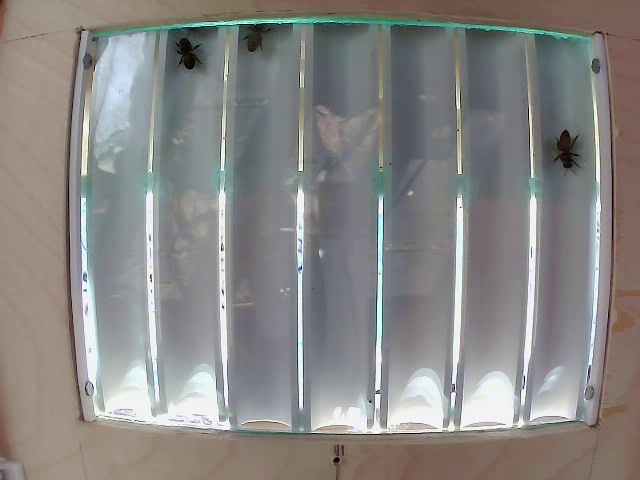bee: (543, 118, 586, 176), (239, 14, 277, 63), (167, 36, 204, 85)
